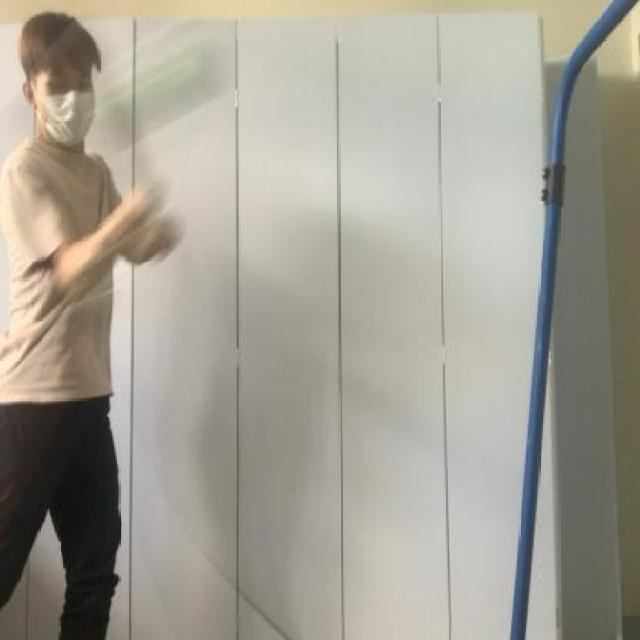baseball: (88, 31, 238, 142)
